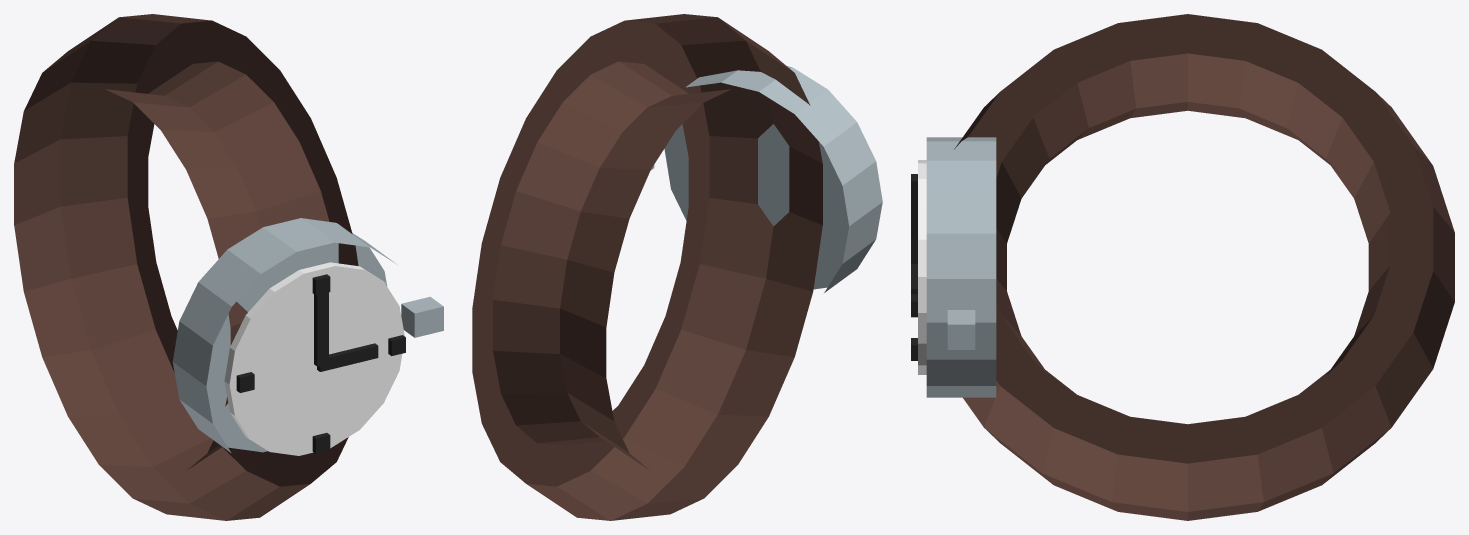
File: armbandsur.glb
3 renders of one model, left to right at view 1: azimuth 30°, elevation 25°; view 2: azimuth 150°, elevation 25°; view 3: azimuth 270°, elevation 25°, orthographic. The views are drawn at different scales.
Visible parts, largest first — view 1: armbandsur; view 2: armbandsur; view 3: armbandsur.
Boxes of the visible parts, box(x1,y1,x2,y2) form: armbandsur: box(14, 14, 443, 520); armbandsur: box(472, 14, 882, 520); armbandsur: box(911, 14, 1454, 520).
Size of the model in its own units: 0.17 by 0.31 by 0.3124.
